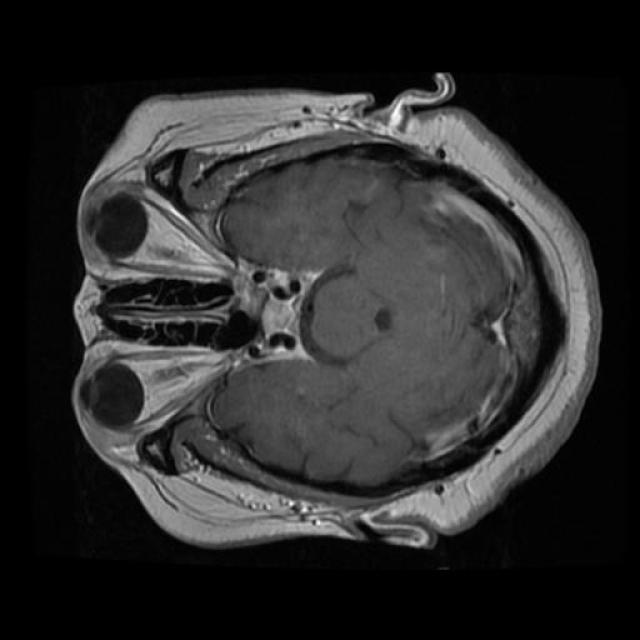Pituitary: (235, 261, 317, 359)
